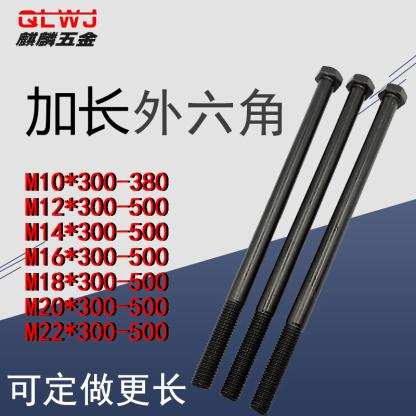FOD: (248, 82, 410, 416), (219, 71, 376, 405), (188, 64, 343, 395)
